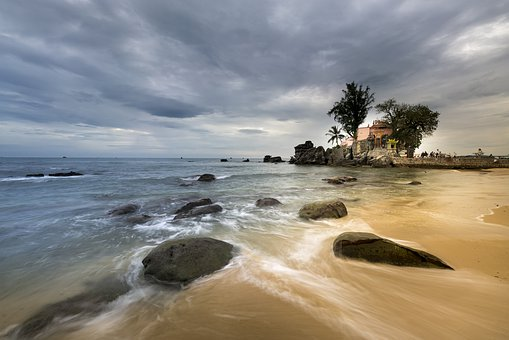beach: (3, 156, 509, 339)
sky: (3, 4, 332, 153)
tree: (329, 78, 444, 164)
